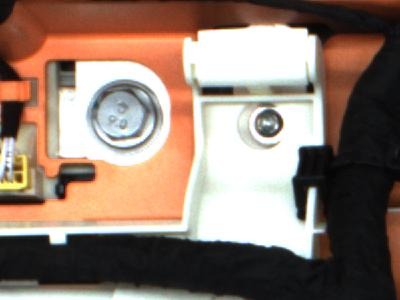nut_b: (90, 72, 176, 148)
screw_m: (244, 104, 288, 145)
